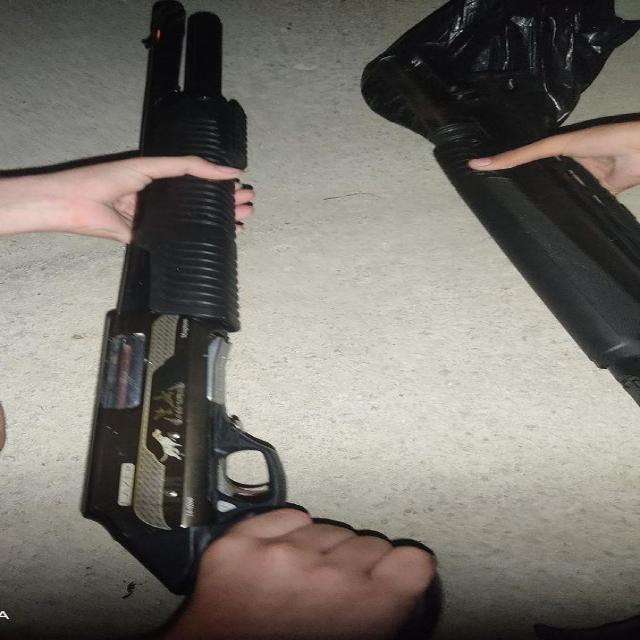shotgun: (90, 0, 316, 617)
